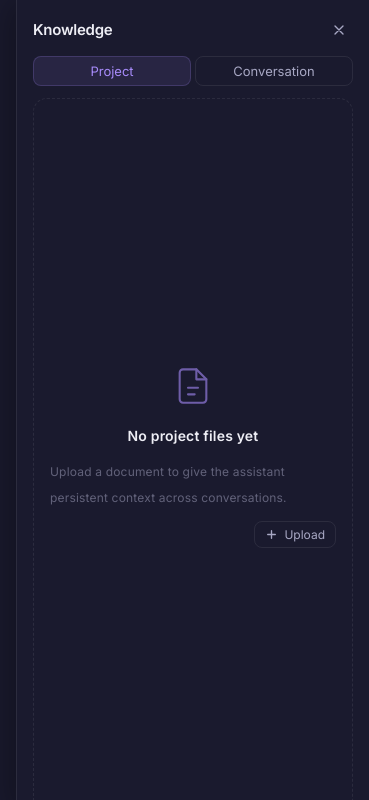
it: KnowledgeSidebar › switches to conversation scope on tab click
Expected: the text "No project files yet" is shown, [128,423,258,449]
Click the tab "Conversation": x=274, y=71 [195,56,353,86]
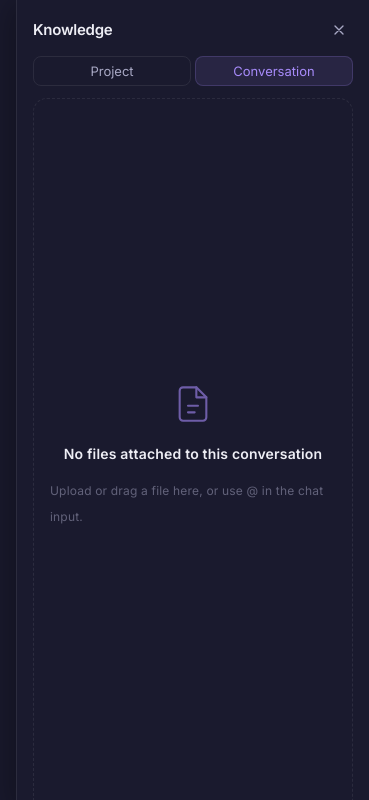
Expected: the text "No files attached to this conversation" is shown, [64,441,322,468]
